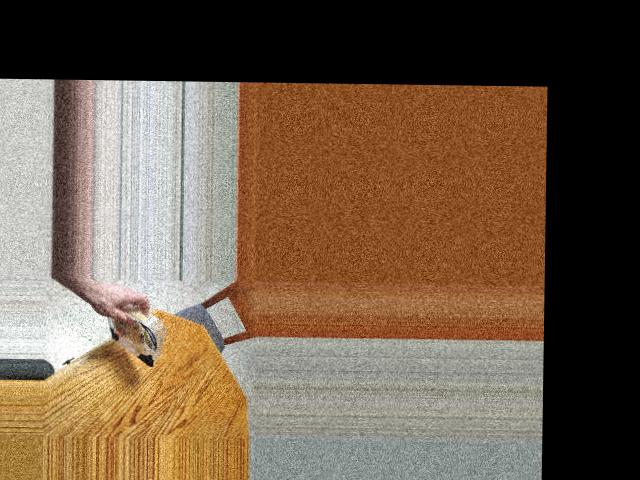cheese: (88, 307, 172, 364)
